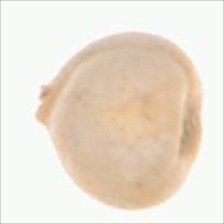L3: (34, 84, 49, 130)
L4: (35, 32, 203, 209)
